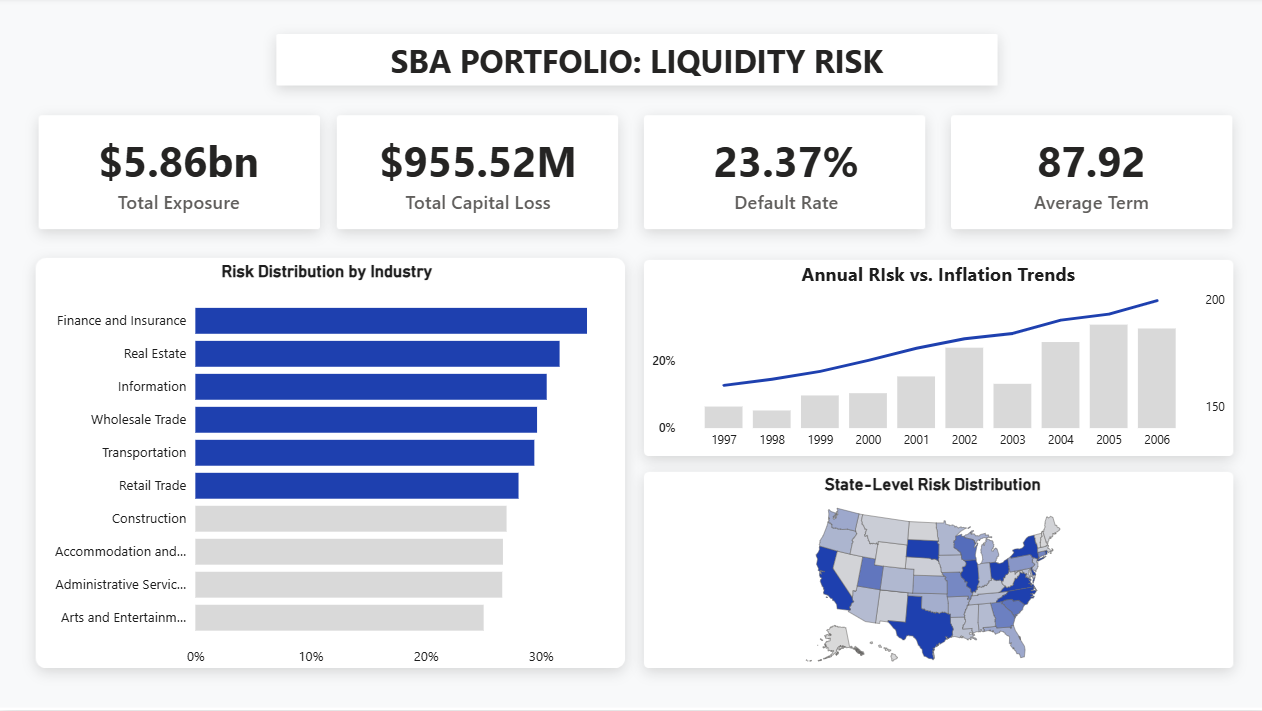

This screenshot's page, from the dashboard's own definition file:
{"tool":"powerbi","page":{"name":"Page 1","canvas":[1280,720],"ordinal":0},"visuals":[{"type":"card","fields":{"Values":["meausre.Total Exposure"]},"box":[37.9,119.6,284.7,113.6],"z":0},{"type":"card","fields":{"Values":["meausre.Total Capital Loss"]},"box":[342.2,119.6,280.1,113.6],"z":1000},{"type":"card","fields":{"Values":["meausre.Default Rate"]},"box":[652.6,119.6,281.6,113.6],"z":2000},{"type":"card","fields":{"Values":["meausre.Average Term"]},"box":[961.5,119.6,280.1,113.6],"z":3000},{"type":"lineClusteredColumnComboChart","title":"Annual RIsk vs. Inflation Trends","fields":{"Y2":["Avg(public powerbi_historical_view.inflation_index)"],"Y":["meausre.Default Rate"],"Category":["public powerbi_historical_view.approval_date.Variation.Date Hierarchy.Year"]},"box":[652.6,266.5,589,198.4],"z":4000},{"type":"shapeMap","title":"State-Level Risk Distribution","fields":{"Category":["public powerbi_historical_view.bank_state"]},"box":[642.5,481.9,599.1,202.2],"z":5000},{"type":"clusteredBarChart","title":"Risk Distribution by Industry","fields":{"Category":["public powerbi_historical_view.sector_name"],"Y":["meausre.Default Rate"]},"box":[37.8,266.5,583.9,417.6],"z":6000},{"type":"textbox","box":[278.6,36.3,728.3,53],"z":7000}]}

Visuals, with their boxes in screenshot pixels (x1, y1, x2, y2), scaled from the page's 1280x720 canvas onto the 1262x711 screenshot:
card - meausre.Total Exposure: detection(37, 118, 318, 230)
card - meausre.Total Capital Loss: detection(337, 118, 614, 230)
card - meausre.Default Rate: detection(643, 118, 921, 230)
card - meausre.Average Term: detection(948, 118, 1224, 230)
"Annual RIsk vs. Inflation Trends" lineClusteredColumnComboChart: detection(643, 263, 1224, 459)
"State-Level Risk Distribution" shapeMap: detection(633, 476, 1224, 676)
"Risk Distribution by Industry" clusteredBarChart: detection(37, 263, 613, 676)
textbox: detection(275, 36, 993, 88)
